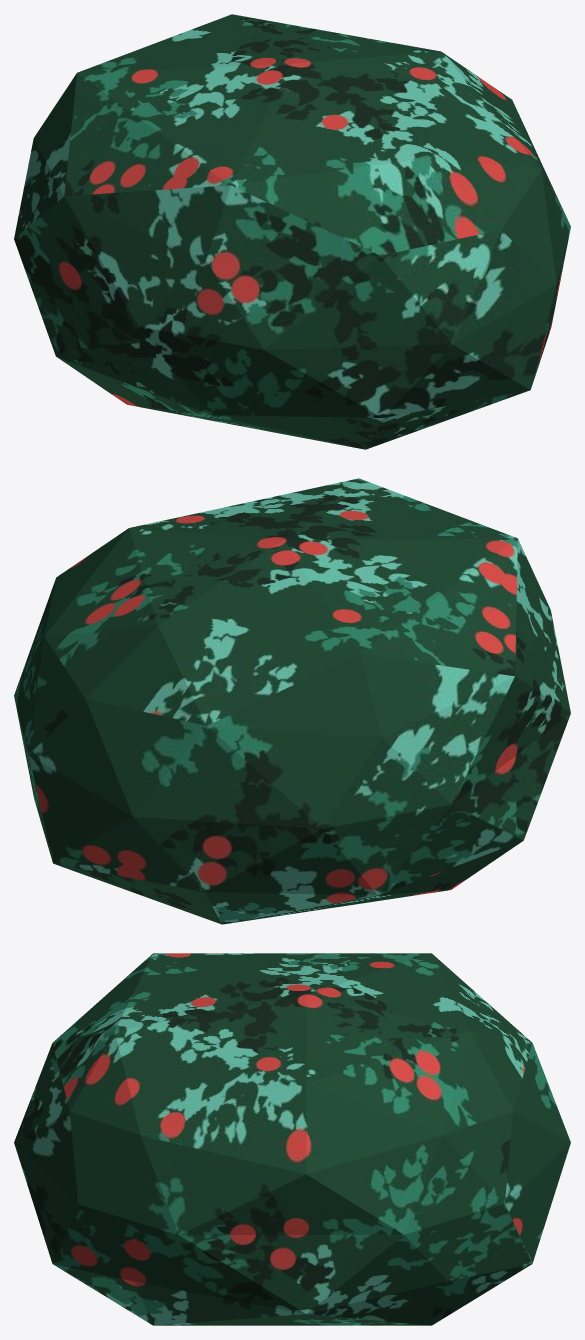
File: Red Berry Bush.fbx
3 renders of one model, top to bottom at view 1: azimuth 30°, elevation 25°; view 2: azimuth 150°, elevation 25°; view 3: azimuth 270°, elevation 25°, orthographic. The views are drawn at different scales.
Parts seen in each view (by area): view 1: Icosphere; view 2: Icosphere; view 3: Icosphere.
Boxes of the visible parts, x1,y1,x2,y2 form: Icosphere: (14, 14, 570, 449); Icosphere: (14, 478, 570, 924); Icosphere: (14, 953, 570, 1325).
Size of the model in its own units: 294 by 200 by 343.
